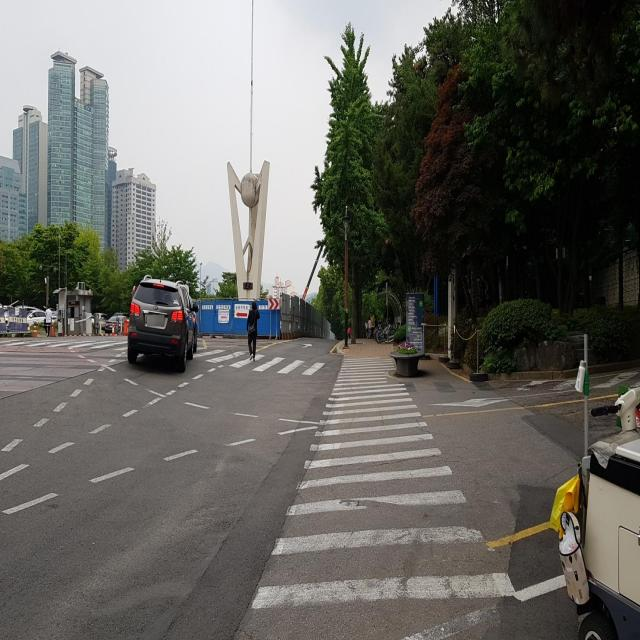횡단보도: (251, 352, 517, 612)
